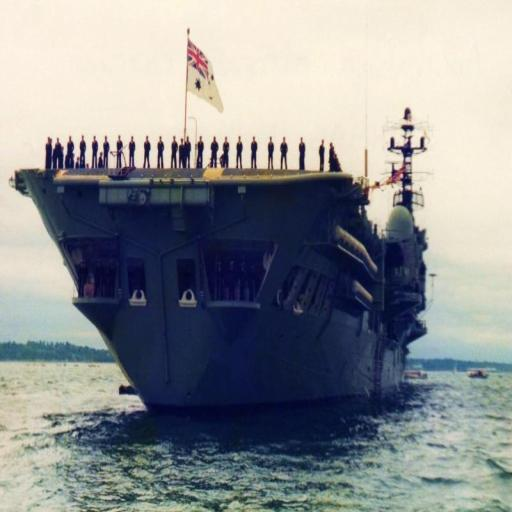Portanaves: (10, 32, 435, 419)
